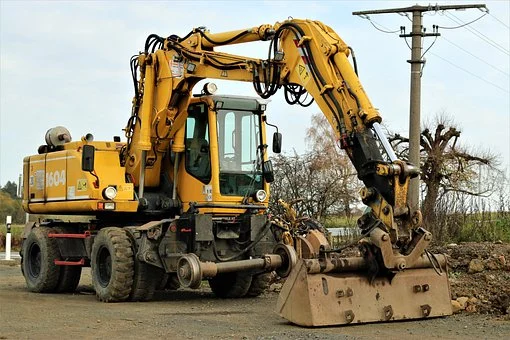excavator: (19, 14, 455, 327)
